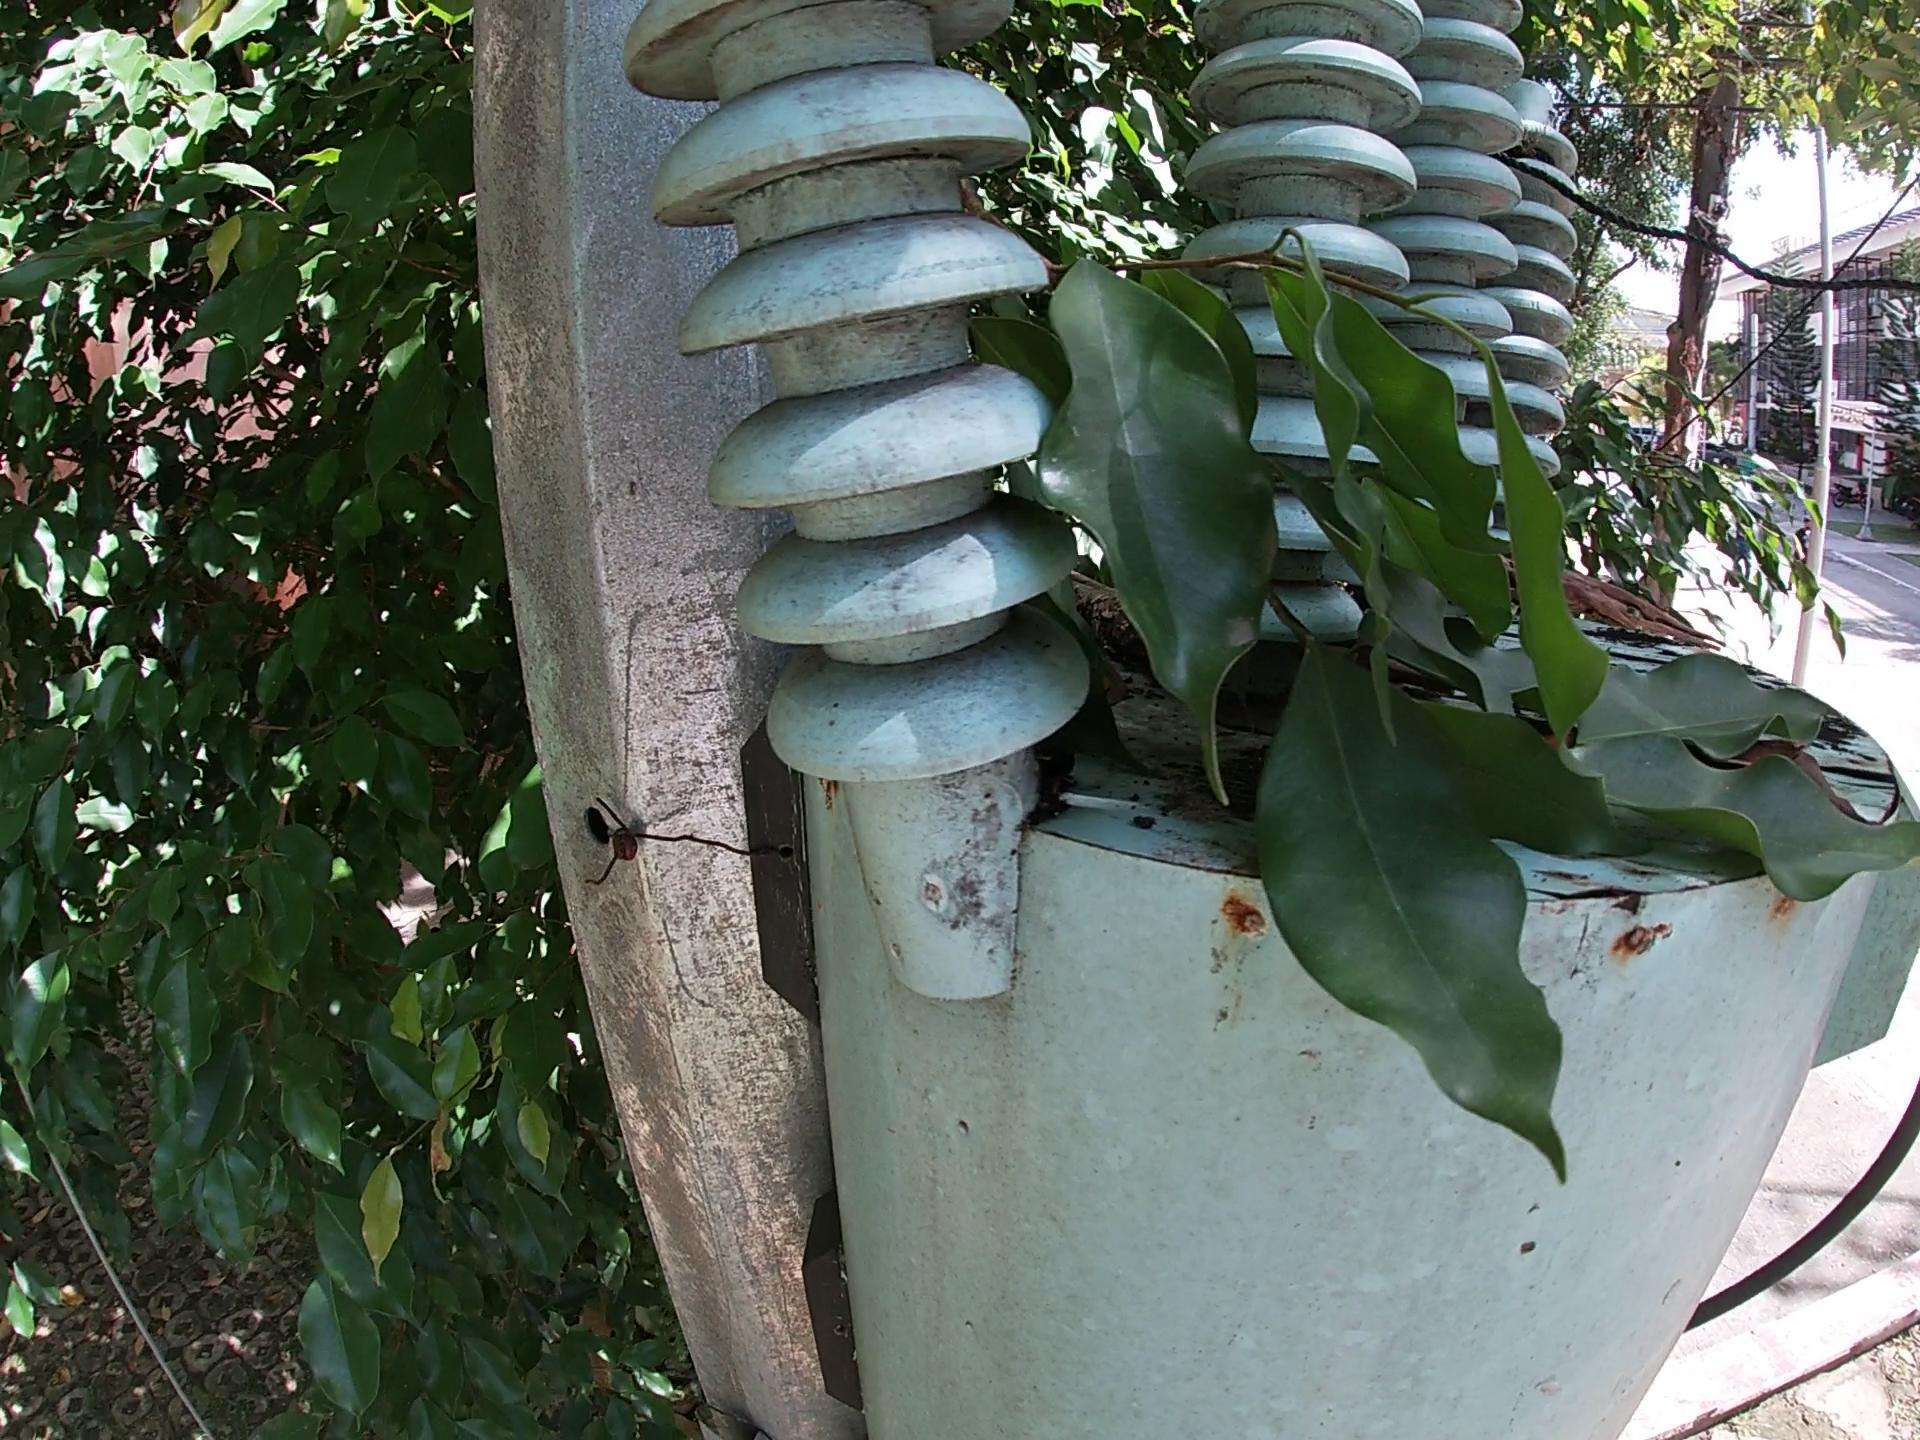branch with leaves: (965, 209, 1882, 1231)
tree branch: (1562, 551, 1705, 641), (1051, 563, 1150, 655)
